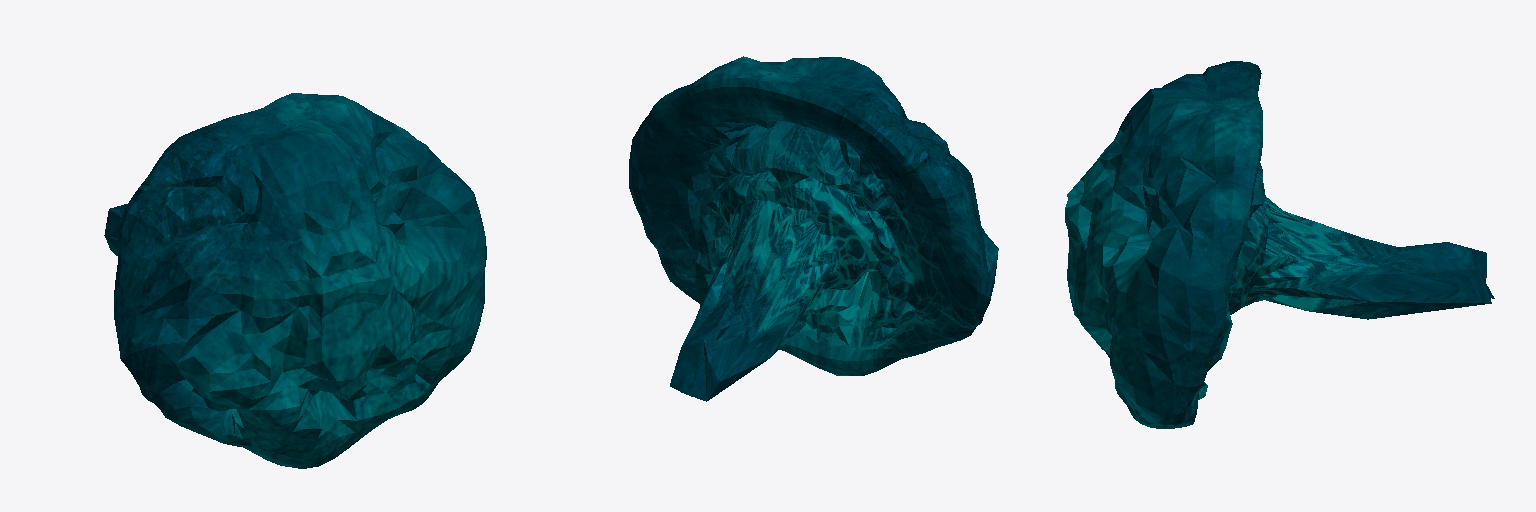
3 renders of one model, left to right at view 1: azimuth 30°, elevation 25°; view 2: azimuth 150°, elevation 25°; view 3: azimuth 270°, elevation 25°, orthographic.
Visible parts, largest first — view 1: sphere_1; view 2: sphere_1; view 3: sphere_1.
Part boxes in pixels (bbox=[...]): sphere_1: bbox=[104, 93, 486, 468]; sphere_1: bbox=[629, 56, 998, 401]; sphere_1: bbox=[1065, 61, 1494, 428].
Bounding box in the file's own units: 1.79 × 1.57 × 1.87.
Materials: 1 (1 with a texture image).